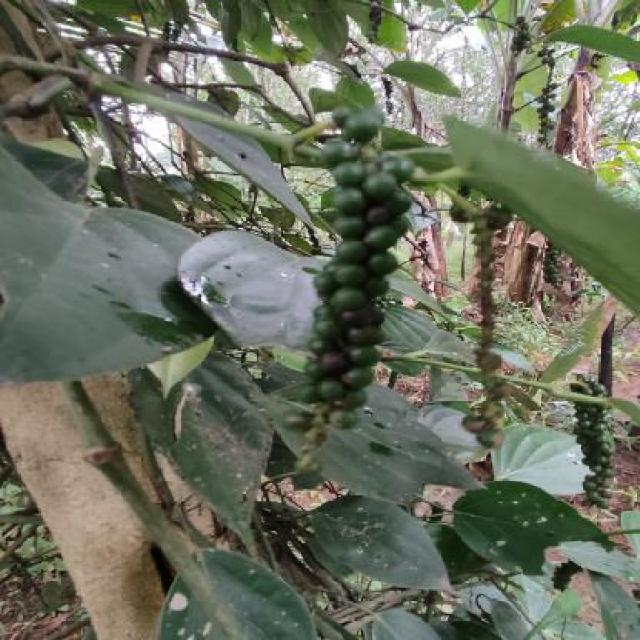UNRIPE: (301, 112, 417, 428), (465, 225, 508, 448), (570, 377, 613, 509), (534, 48, 555, 143), (552, 558, 583, 591), (543, 239, 562, 285), (509, 17, 529, 52), (365, 2, 380, 43)
